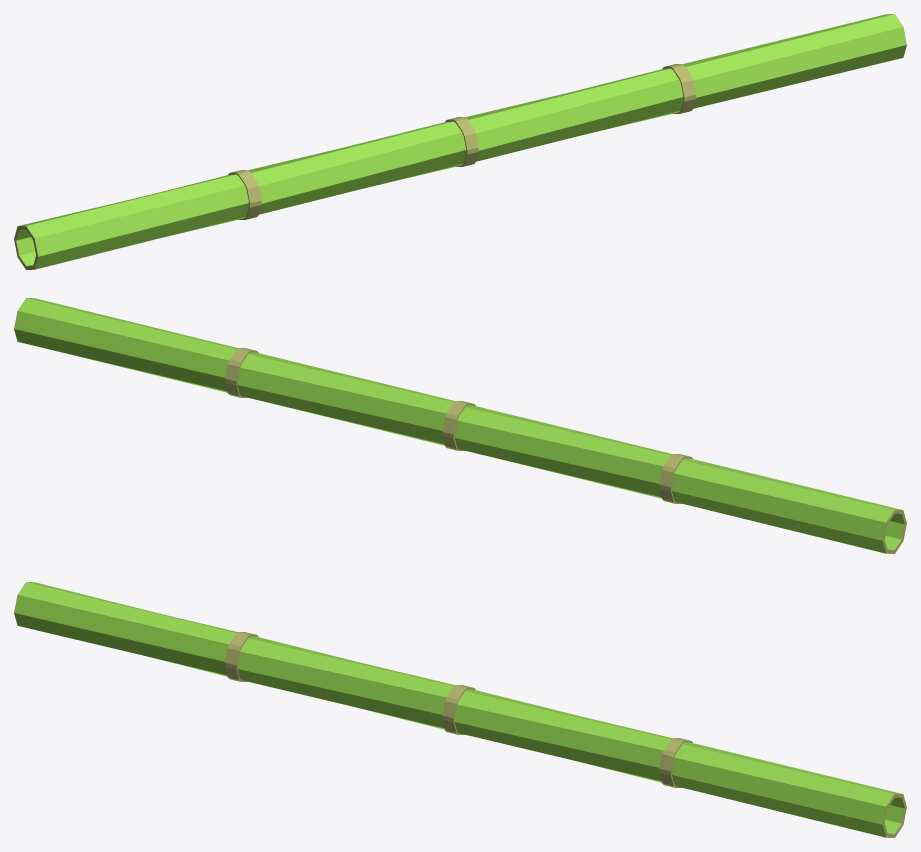
File: bamboo.fbx
3 renders of one model, top to bottom at view 1: azimuth 30°, elevation 25°; view 2: azimuth 150°, elevation 25°; view 3: azimuth 330°, elevation 25°, orthographic.
Parts seen in each view (by area): view 1: Cylinder; view 2: Cylinder; view 3: Cylinder.
Part boxes in pixels (x1,y1,x2,y2): Cylinder: (14,14,906,269); Cylinder: (14,298,906,553); Cylinder: (14,582,906,837).
Bounding box in the file's own units: 91.52 × 4.58 × 4.58.
